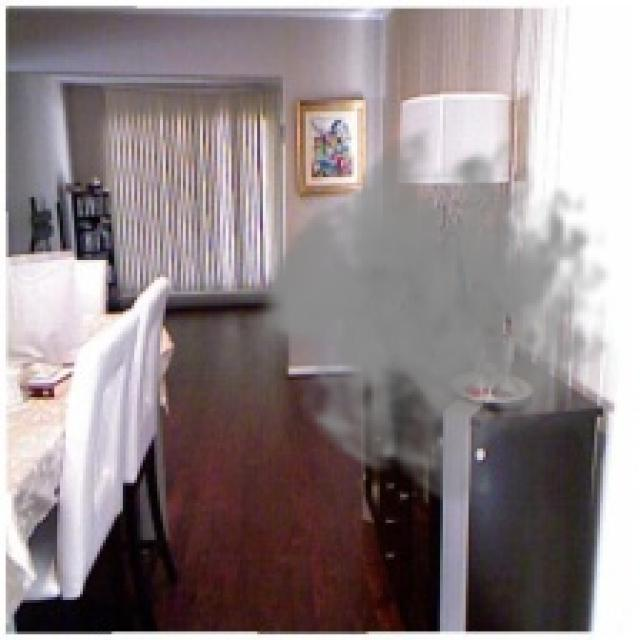Smoke: (254, 114, 612, 512)
